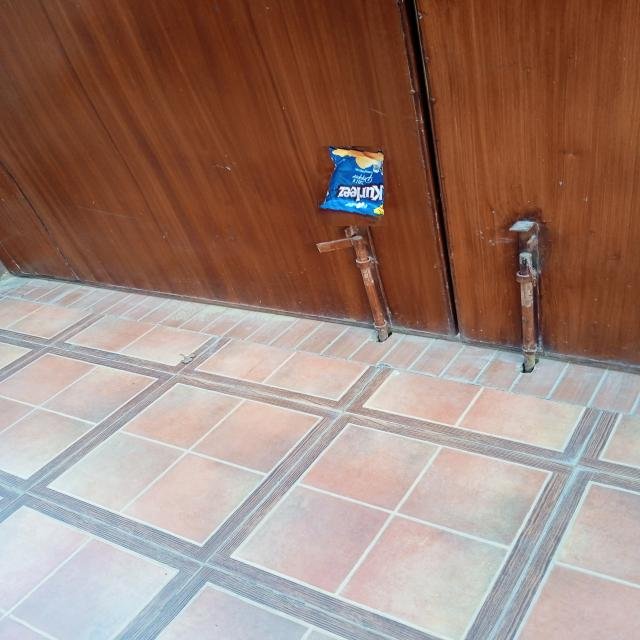Plastic: (316, 146, 387, 226)
